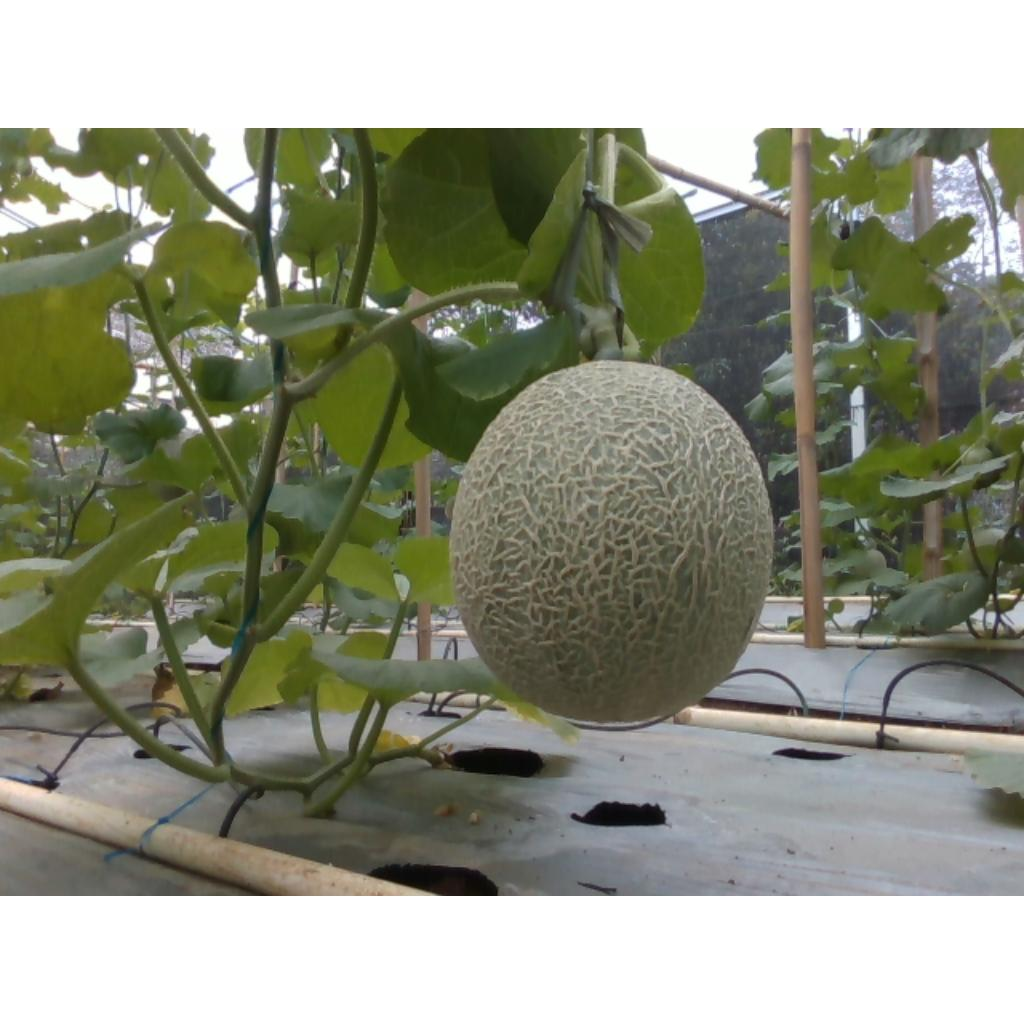melon: (453, 360, 774, 722)
